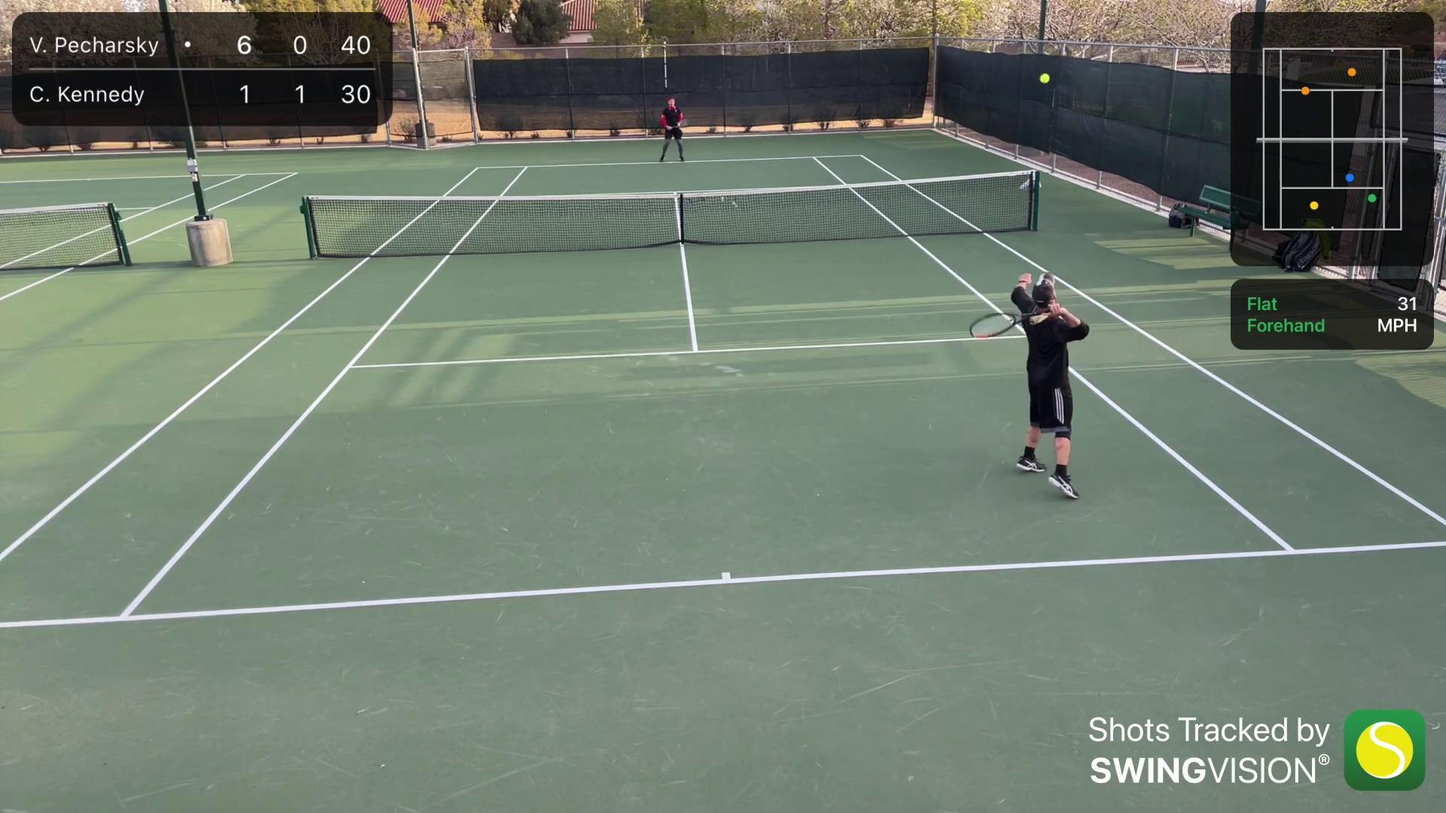ball: (1036, 72, 1052, 85)
